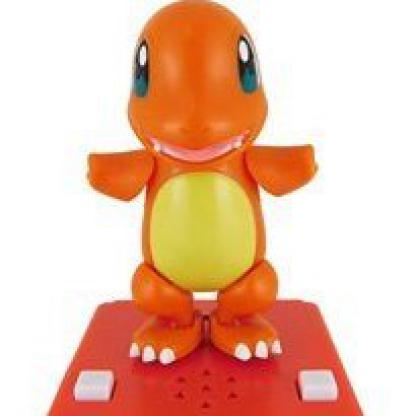Charmander: (75, 11, 328, 357)
